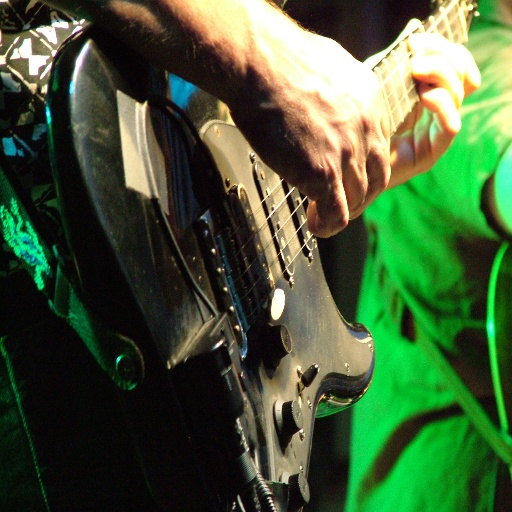hand: (226, 28, 394, 240), (384, 17, 481, 189)
